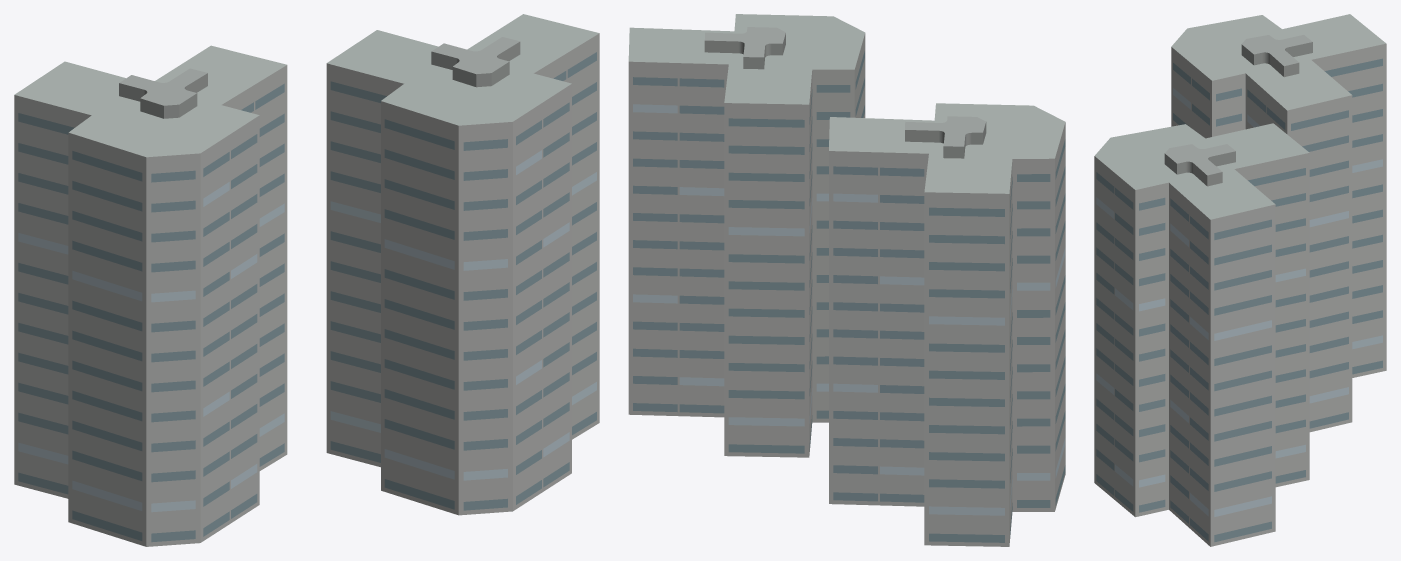
File: apt-a10026797.glb
The picture shows the model from 3 angles, left to right: view 1: azimuth 30°, elevation 25°; view 2: azimuth 150°, elevation 25°; view 3: azimuth 270°, elevation 25°; orthographic projection. The views are drawn at different scales.
Visible parts, largest first — view 1: apt-a10026797; view 2: apt-a10026797; view 3: apt-a10026797.
Boxes of the visible parts, x1=… form: apt-a10026797: x1=14, y1=14, x2=599, y2=546; apt-a10026797: x1=628, y1=14, x2=1065, y2=546; apt-a10026797: x1=1094, y1=14, x2=1386, y2=546.
Size of the model in its own units: 96.6 by 74 by 57.92.
